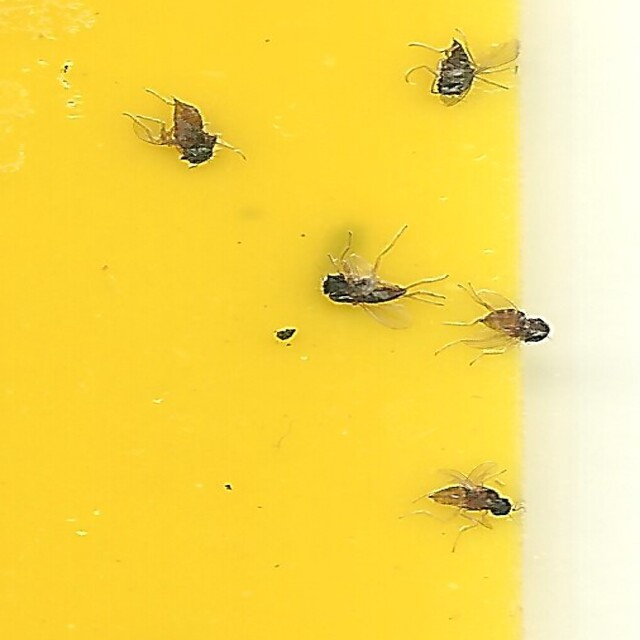Brachycera: (323, 227, 449, 335), (420, 459, 514, 549), (126, 91, 229, 171)
